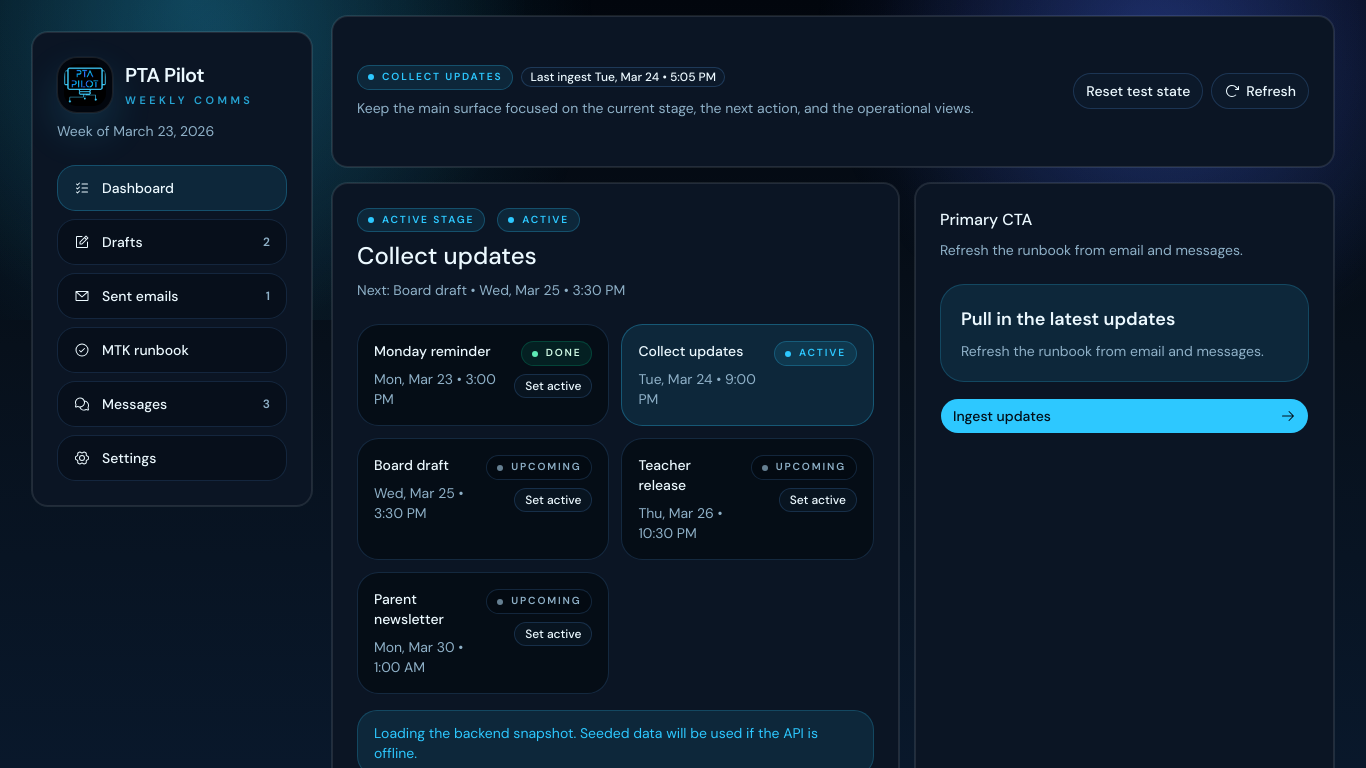
Test: DashboardShell › shows editable outbound drafts and sent emails in separate views
Click the button "Drafts 2".
click(172, 242)  # box [57, 219, 287, 265]
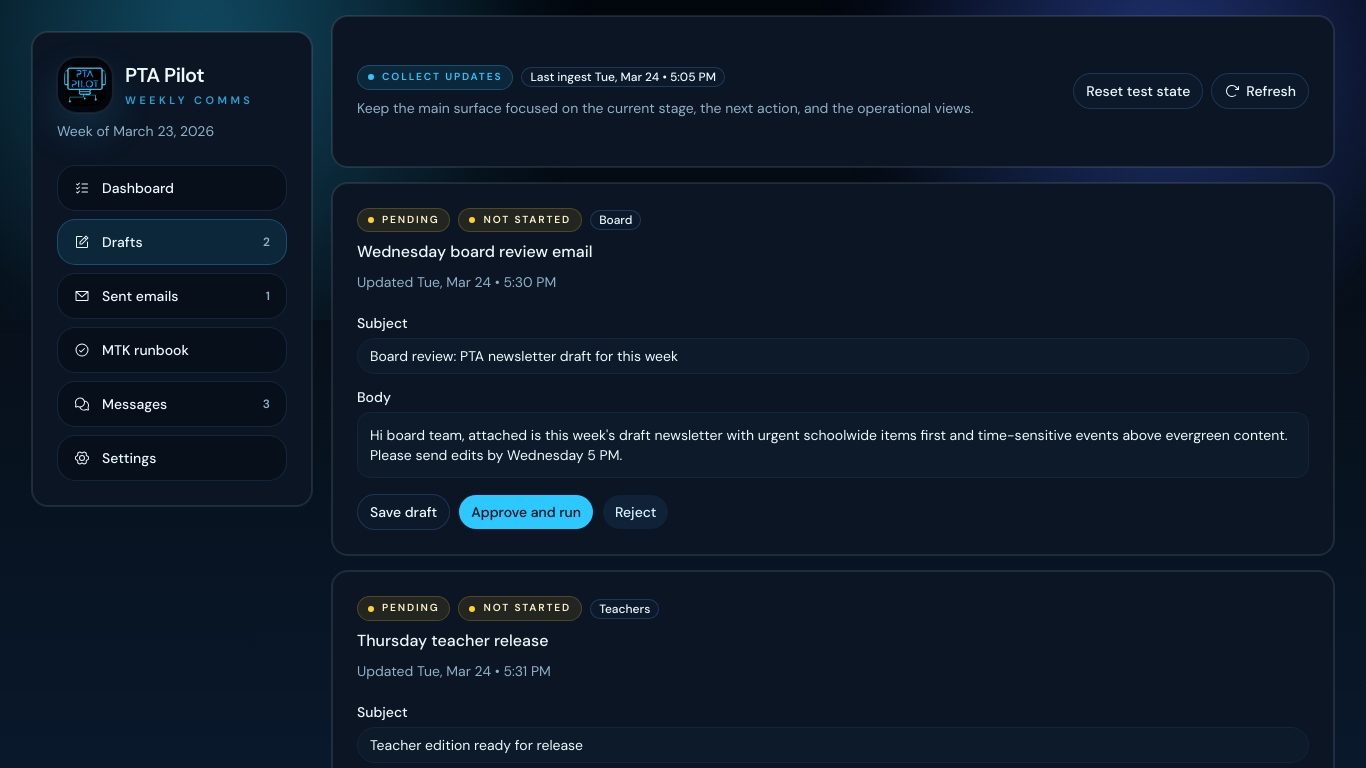
Now the text "Wednesday board review email" is shown, box [357, 241, 592, 262]
Now the field labelled "Subject" below "Tue, Mar 24 • 5:30 PM" is shown, box [357, 338, 1309, 374]
Now the button "Approve and run" is shown, box [458, 494, 594, 530]
Click the button "Sent emails 1".
click(172, 296)  # box [57, 273, 287, 319]
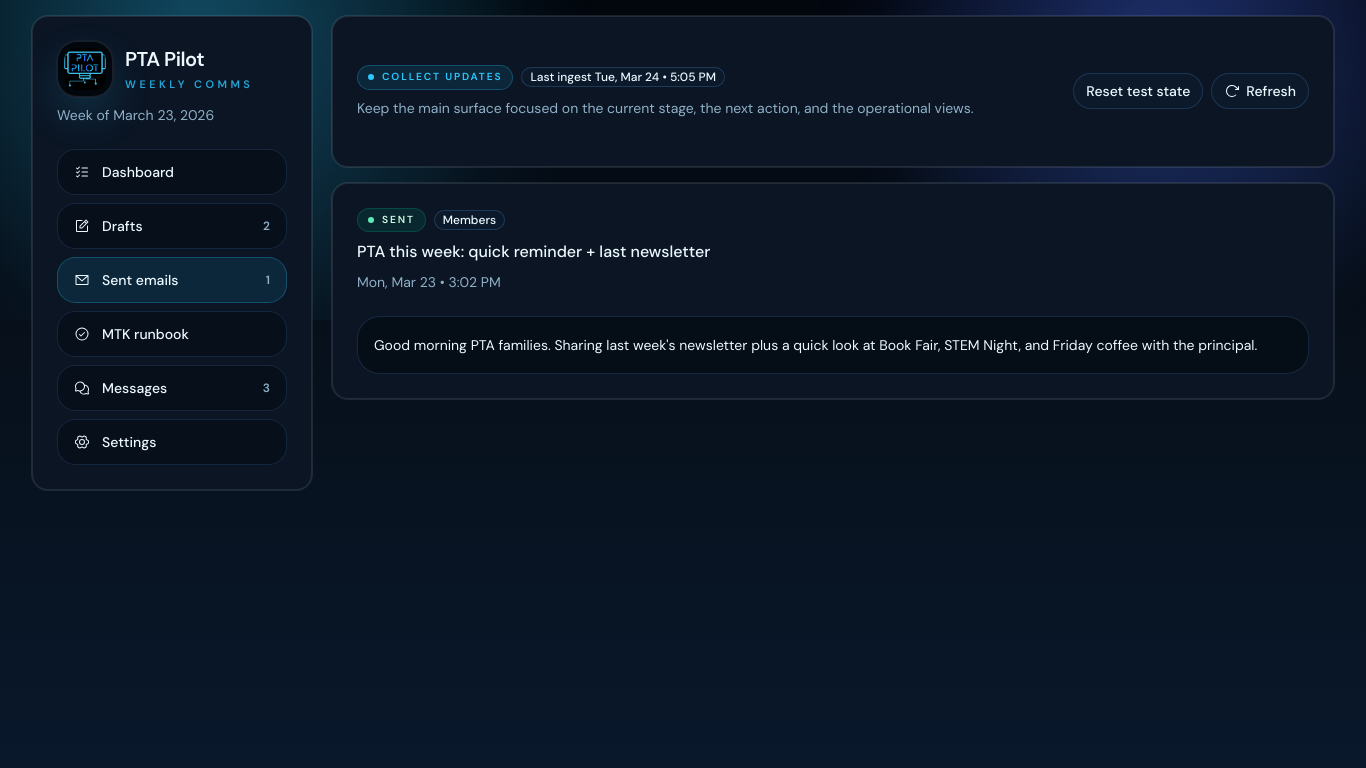
Now the text "PTA this week: quick reminder + last newsletter" is shown, box [357, 241, 710, 262]
